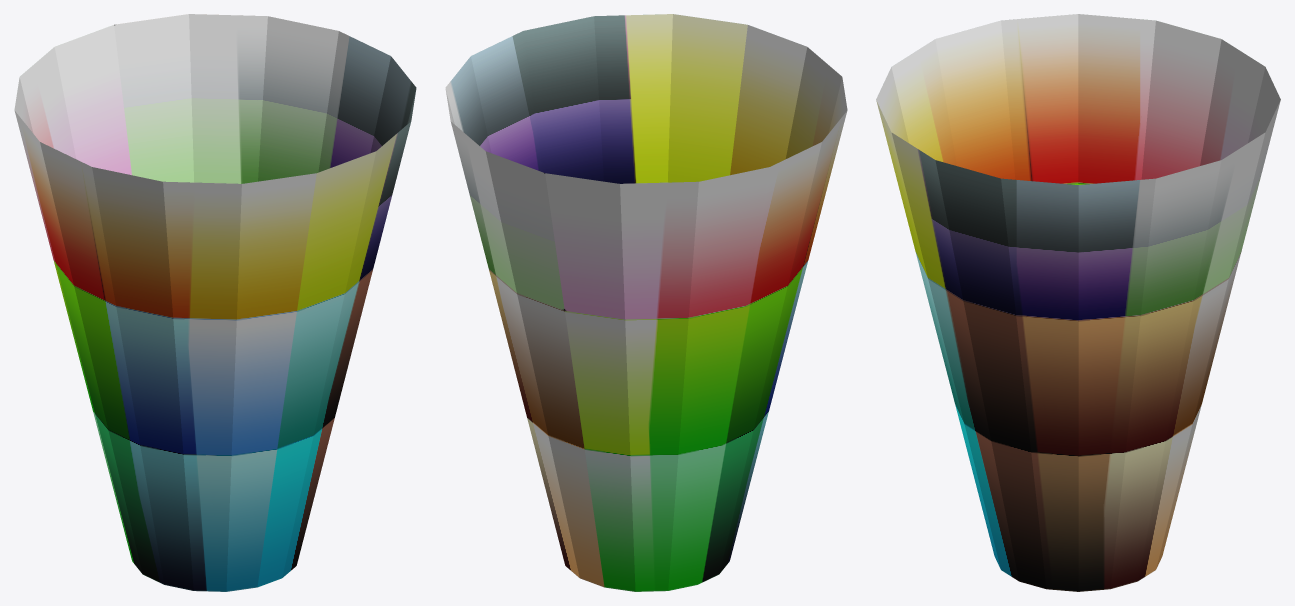
The model's file is WaterpoolMesh.fbx.
3 renders of one model, left to right at view 1: azimuth 30°, elevation 25°; view 2: azimuth 150°, elevation 25°; view 3: azimuth 270°, elevation 25°, orthographic.
Visible parts, largest first — view 1: WaterpoolMesh; view 2: WaterpoolMesh; view 3: WaterpoolMesh.
Part boxes in pixels (box(x1,y1,x2,y2)): WaterpoolMesh: box(14, 14, 416, 591); WaterpoolMesh: box(445, 14, 847, 591); WaterpoolMesh: box(876, 14, 1280, 591).
Bounding box in the file's own units: 294 × 366 × 294.
